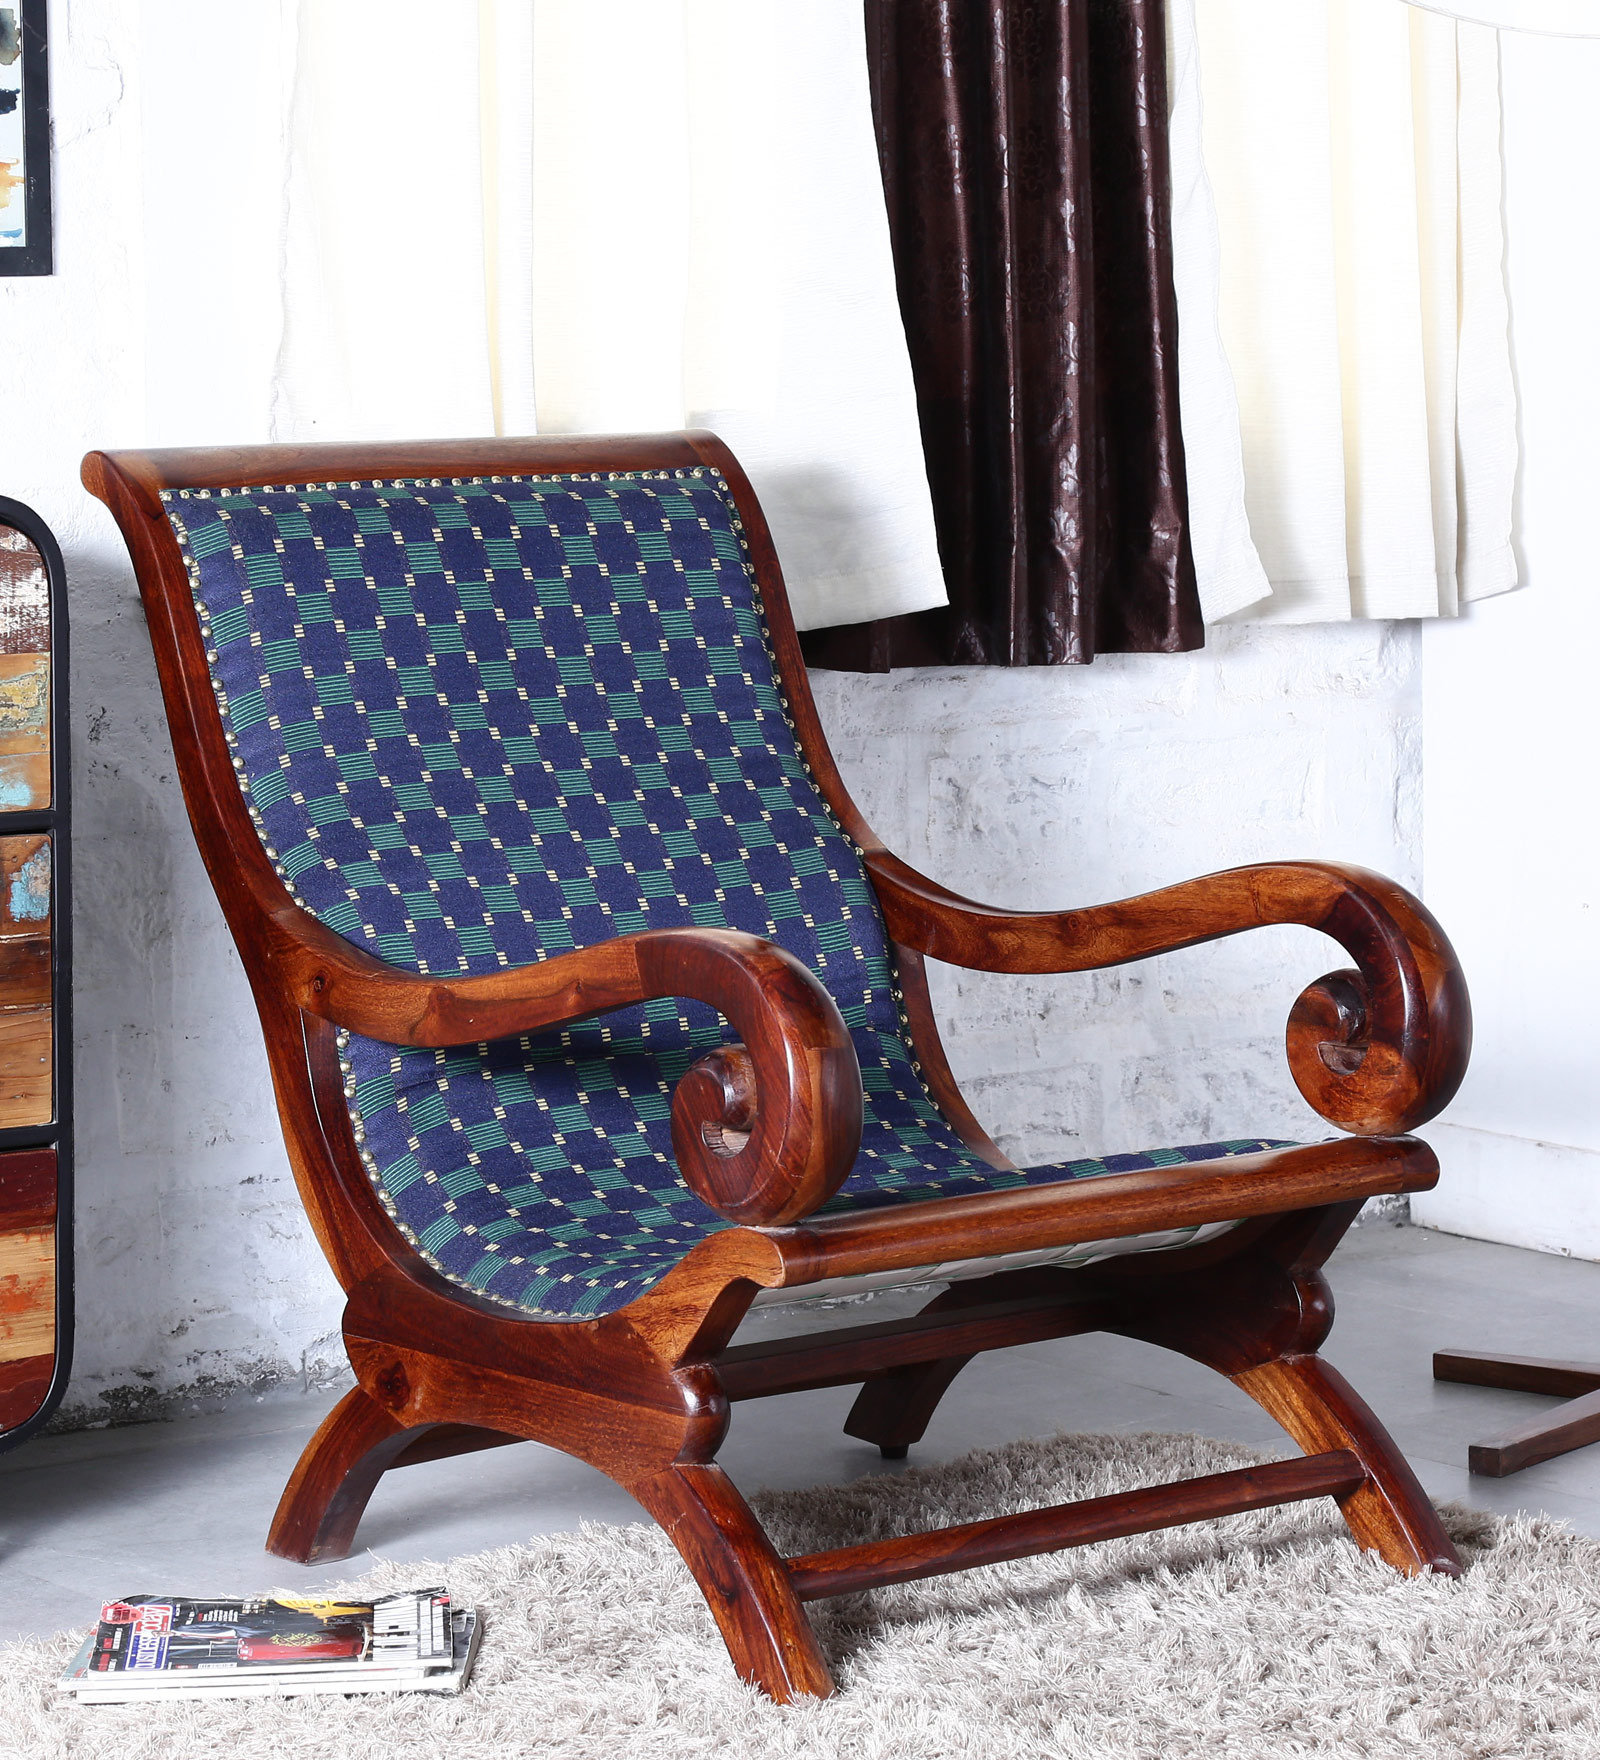Amherst Arm Chair in Honey Oak Finish by Amberville: (49, 374, 1542, 1720)
